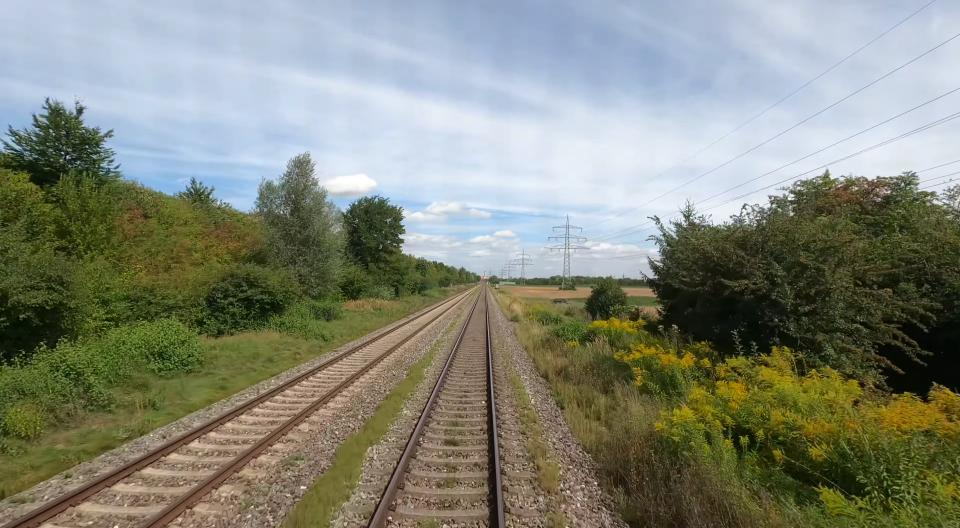Plant: (282, 347, 440, 528), (509, 373, 561, 503), (548, 512, 564, 528), (418, 519, 442, 528), (446, 421, 462, 428), (444, 440, 462, 446)
